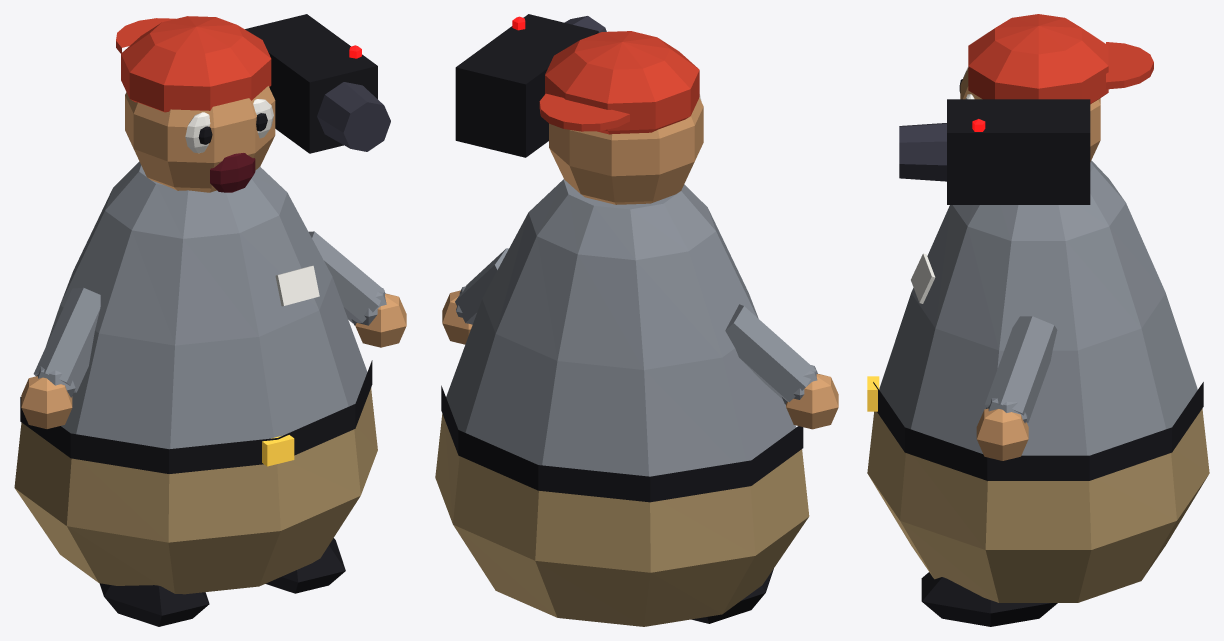
Rendered from npc_periodista.glb.
3 views of the same model, side by side, from view 1: azimuth 30°, elevation 25°; view 2: azimuth 150°, elevation 25°; view 3: azimuth 270°, elevation 25° (orthographic). The views are drawn at different scales.
Parts seen in each view (by area): view 1: body_jacket, body_khaki, cap_press_cap, props_black, head_skin_arena, body_black, arms_jacket, legs_black, arms_skin_arena, props_lens, face_mouth, body_white (+2 smaller); view 2: body_jacket, body_khaki, cap_press_cap, props_black, head_skin_arena, body_black, arms_jacket, arms_skin_arena, legs_black; view 3: body_jacket, body_khaki, props_black, cap_press_cap, body_black, arms_jacket, legs_black, props_lens, arms_skin_arena, head_skin_arena, body_white.
Boxes of the visible parts, x1,y1,x2,y2 form: body_jacket: (46,161,367,449); body_khaki: (14,388,377,594); cap_press_cap: (116,16,271,112); props_black: (245,14,377,153); head_skin_arena: (125,86,275,192); body_black: (20,360,372,473); arms_jacket: (33,231,386,397); legs_black: (99,538,345,626); arms_skin_arena: (21,293,406,428); props_lens: (317,82,390,151); face_mouth: (210,153,255,192); body_white: (275,265,319,306); body_jacket: (446,179,796,476); body_khaki: (435,414,809,626); cap_press_cap: (539,31,699,134); props_black: (455,14,598,157); head_skin_arena: (549,98,703,204); body_black: (441,385,803,502); arms_jacket: (455,248,817,404); arms_skin_arena: (442,290,838,429); legs_black: (691,568,773,623); body_jacket: (879,160,1197,455); body_khaki: (867,408,1209,602); props_black: (947,99,1090,204); cap_press_cap: (968,14,1153,104); body_black: (873,382,1203,480); arms_jacket: (985,316,1057,423); legs_black: (921,572,1057,626); props_lens: (899,123,946,181); arms_skin_arena: (976,408,1028,460); head_skin_arena: (960,68,1100,161); body_white: (911,253,935,303).
Size of the model in its own units: 1.13 by 1.55 by 0.86.
